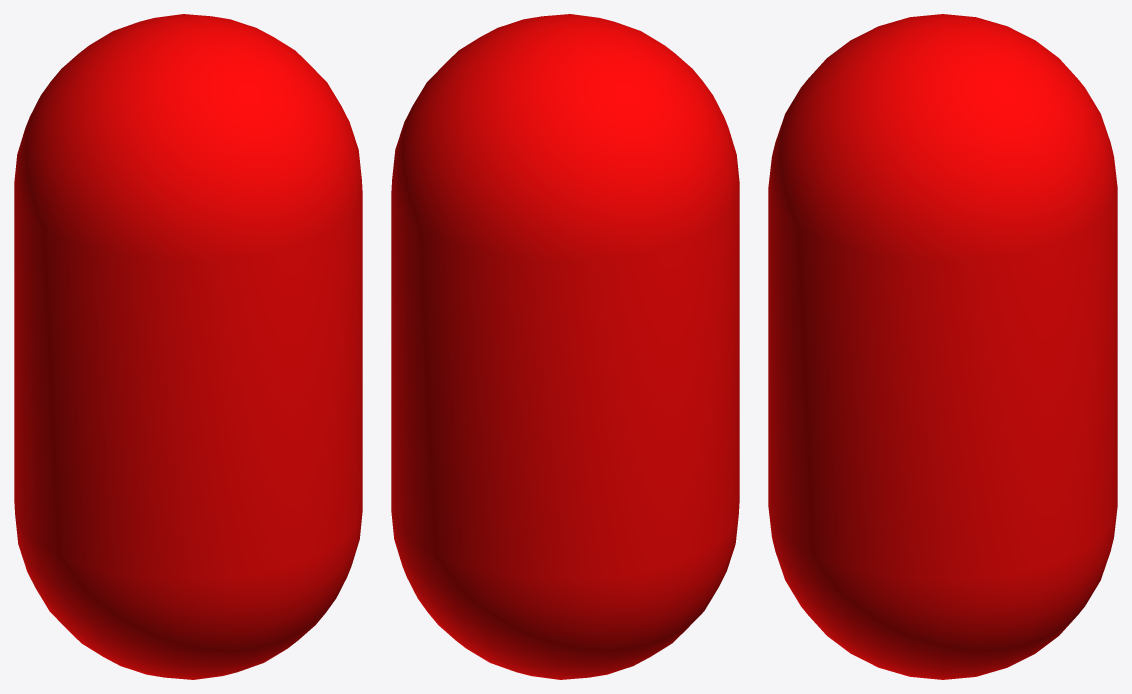
File: unity default resourcesRedDanger.glb
The picture shows the model from 3 angles, left to right: view 1: azimuth 30°, elevation 25°; view 2: azimuth 150°, elevation 25°; view 3: azimuth 270°, elevation 25°; orthographic projection.
Visible parts, largest first — view 1: Capsule; view 2: Capsule; view 3: Capsule.
Part boxes in pixels (left/top/right/bottom): Capsule: left=14, top=14, right=362, bottom=679; Capsule: left=391, top=14, right=739, bottom=679; Capsule: left=768, top=14, right=1117, bottom=679.
Size of the model in its own units: 1 by 2 by 1.
